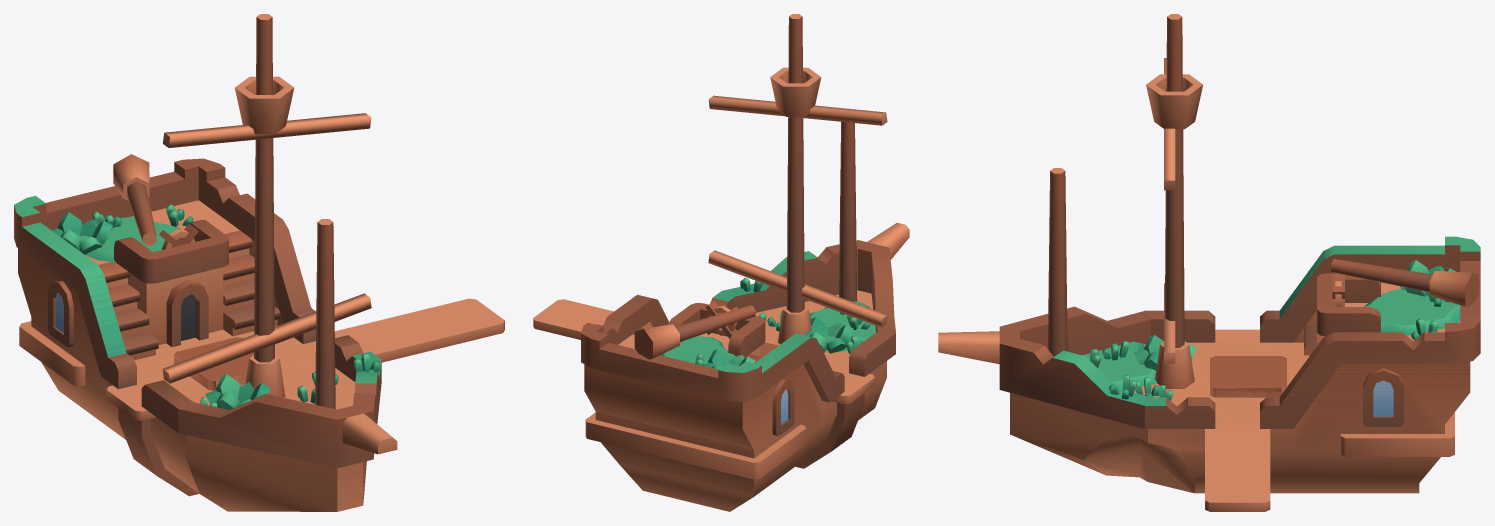
The model's file is Bateau_echoue.glb.
3 views of the same model, side by side, from view 1: azimuth 30°, elevation 25°; view 2: azimuth 150°, elevation 25°; view 3: azimuth 270°, elevation 25° (orthographic). The views are drawn at different scales.
Visible parts, largest first — view 1: ship-wreck, sail-a, Group, Group.004, Group.001, Group.003; view 2: ship-wreck, sail-a, Group, Group.001, Group.003, Group.002, Group.004; view 3: ship-wreck, Group, Group.001, Group.002, sail-a, Group.003.
Boxes of the visible parts, x1,y1,x2,y2 form: ship-wreck: (14,14,504,511); sail-a: (162,113,371,383); Group: (113,154,156,246); Group.004: (52,212,112,254); Group.001: (79,216,180,262); Group.003: (205,374,270,409); ship-wreck: (533,14,909,511); sail-a: (708,95,887,327); Group: (634,305,755,359); Group.001: (660,336,735,364); Group.003: (805,317,853,353); Group.002: (809,301,875,351); Group.004: (703,349,755,369); ship-wreck: (938,14,1480,511); Group: (1331,259,1479,307); Group.001: (1364,289,1460,335); Group.002: (1082,341,1157,389); sail-a: (1164,58,1175,363); Group.003: (1134,335,1196,370).
Size of the model in its own units: 8.01 by 9.96 by 10.6.
Materials: 1 (1 with a texture image).
